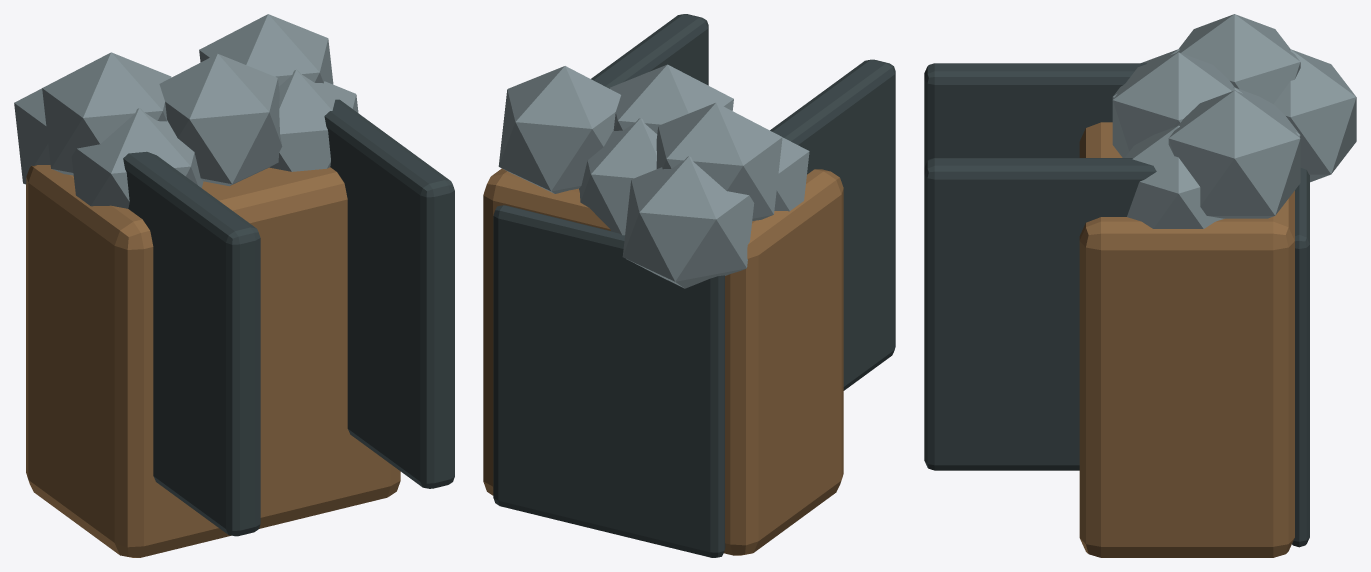
File: MinerBackpack.fbx
3 renders of one model, left to right at view 1: azimuth 30°, elevation 25°; view 2: azimuth 150°, elevation 25°; view 3: azimuth 270°, elevation 25°, orthographic. The views are drawn at different scales.
Parts seen in each view (by area): view 1: OreBackpack, BackpackStrap, BackpackStrap.001, OreLoad.001, OreLoad.003, OreLoad, OreLoad.005, OreLoad.002, OreLoad.006; view 2: PackFrame, OreBackpack, BackpackStrap, OreLoad.006, OreLoad.005, OreLoad.003, OreLoad.004, OreLoad.001, BackpackStrap.001, OreLoad; view 3: OreBackpack, BackpackStrap.001, BackpackStrap, OreLoad.005, OreLoad.001, OreLoad.006, OreLoad.003, PackFrame, OreLoad.002.
Boxes of the visible parts, box(x1,y1,x2,y2) form: OreBackpack: box(26, 165, 400, 557); BackpackStrap: box(123, 151, 260, 536); BackpackStrap.001: box(324, 99, 454, 488); OreLoad.001: box(159, 53, 282, 186); OreLoad.003: box(42, 52, 171, 175); OreLoad: box(71, 108, 203, 208); OreLoad.005: box(199, 14, 333, 86); OreLoad.002: box(269, 69, 358, 171); OreLoad.006: box(14, 88, 50, 184); PackFrame: box(493, 205, 725, 557); OreBackpack: box(483, 168, 843, 555); BackpackStrap: box(770, 59, 895, 390); OreLoad.006: box(622, 156, 754, 288); OreLoad.005: box(498, 66, 620, 193); OreLoad.003: box(656, 102, 782, 220); OreLoad.004: box(579, 118, 657, 235); OreLoad.001: box(609, 64, 733, 133); BackpackStrap.001: box(591, 14, 708, 88); OreLoad: box(774, 137, 809, 211); OreBackpack: box(1079, 122, 1294, 557); BackpackStrap.001: box(924, 158, 1156, 470); BackpackStrap: box(924, 63, 1146, 167); OreLoad.005: box(1168, 90, 1300, 218); OreLoad.001: box(1112, 52, 1235, 157); OreLoad.006: box(1273, 49, 1356, 182); OreLoad.003: box(1177, 14, 1300, 104); PackFrame: box(1292, 168, 1309, 547); OreLoad.002: box(1125, 125, 1224, 228).
Bounding box in the file's own units: 38 × 57 × 50.16.
